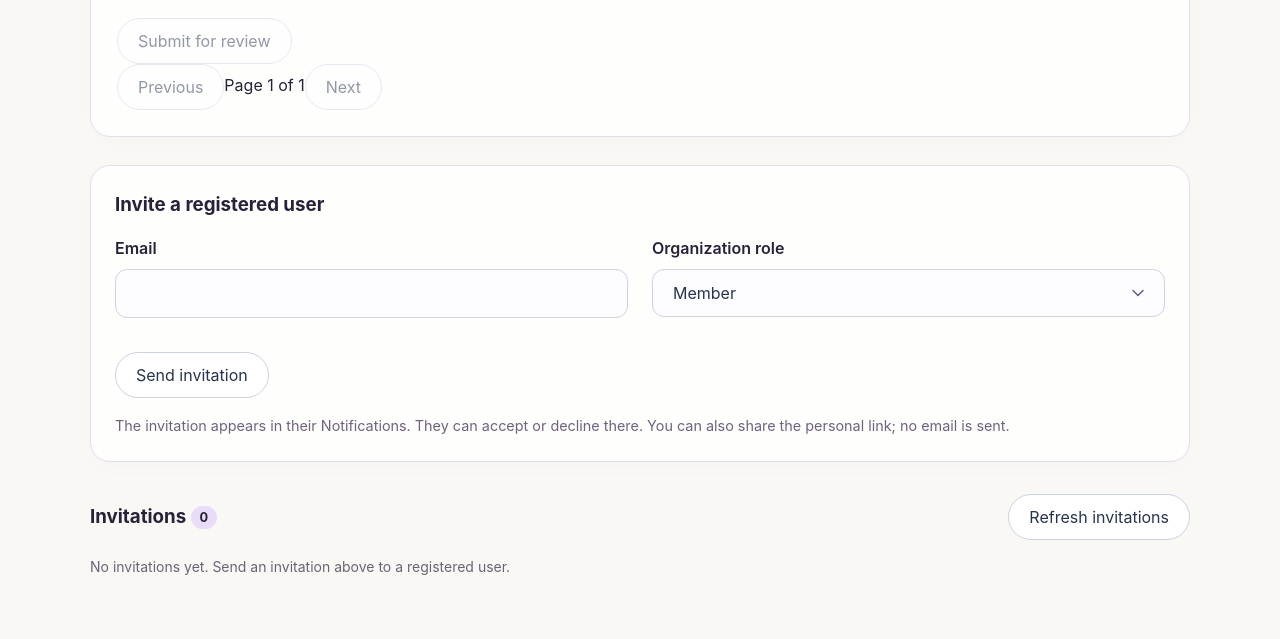
Test case: shows an account-bound invitation link only after successful creation
(page scrolled)
In the field labelled "Email": (372, 294) [115,269,628,318], type "member@example.com"
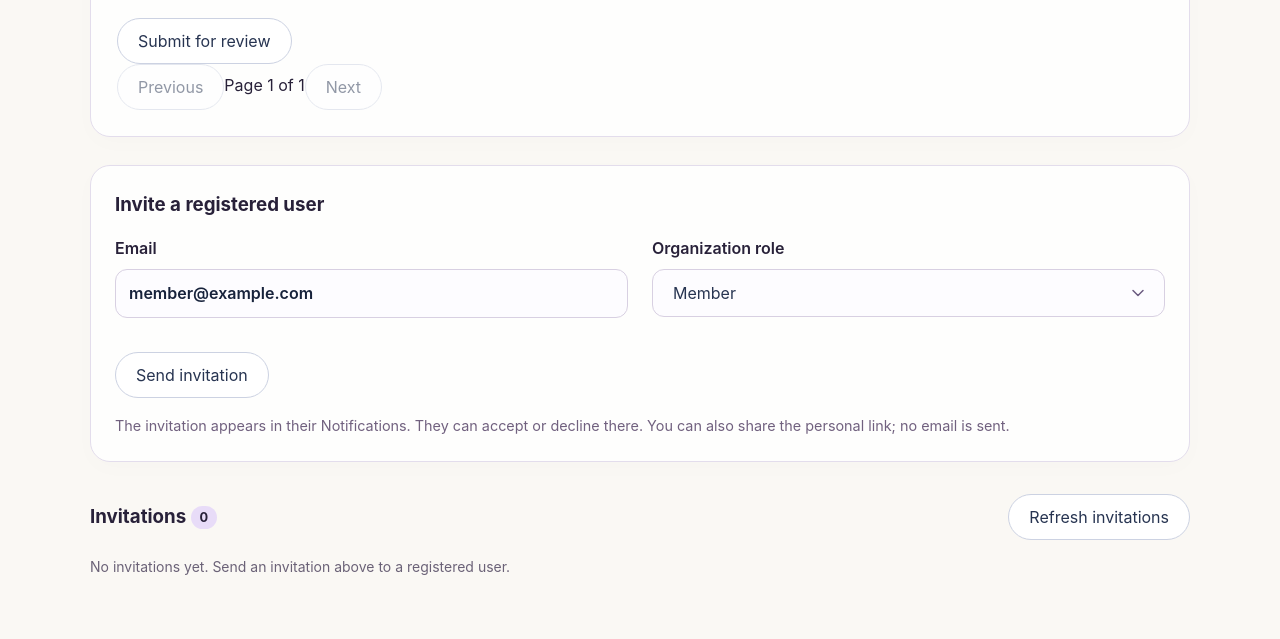
Click the button "Send invitation": (192, 375) [115,352,269,398]
(page scrolled)
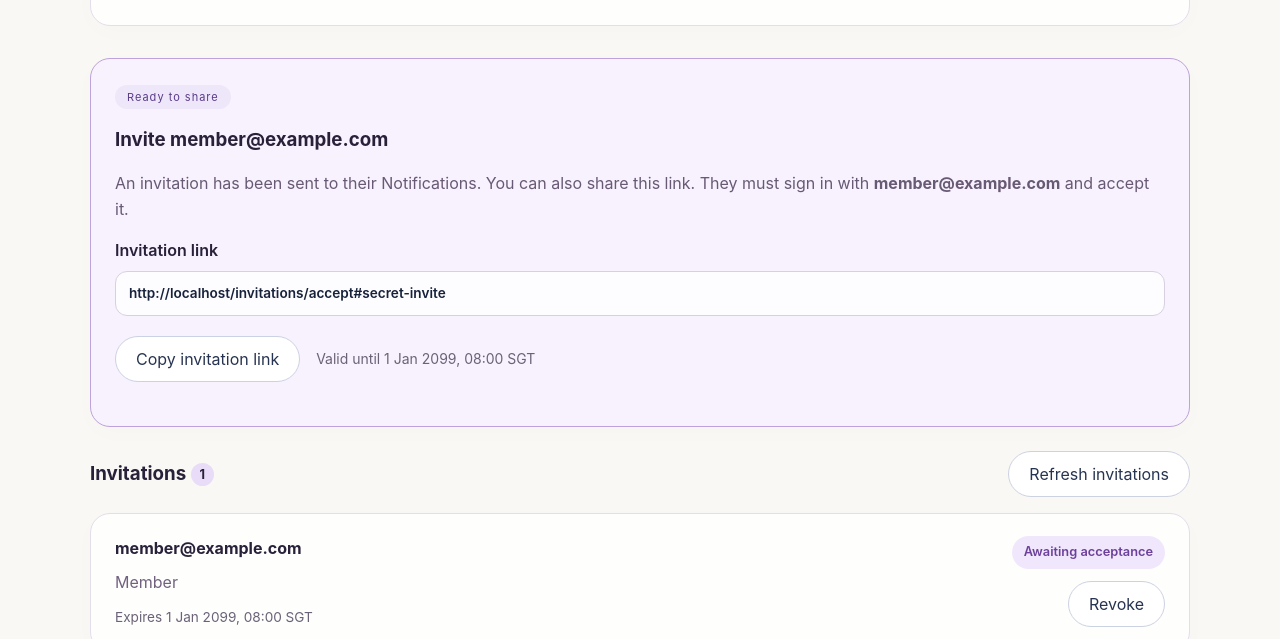
Now the field showing "invitations/accept#secret-invite" is shown, box [115,271,1165,316]
